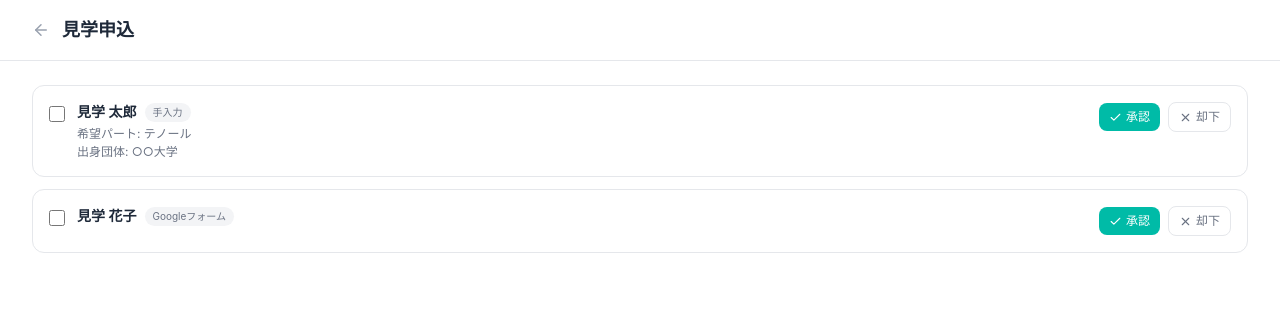
it: VisitorApplicationsPage › チェックボックスで複数選択し、一括承認できる
Expected: the text "見学 太郎" is shown, [77,102,136,122]
Click the checkbox next to "見学 太郎".
click(57, 114)  # box [49,106,65,122]
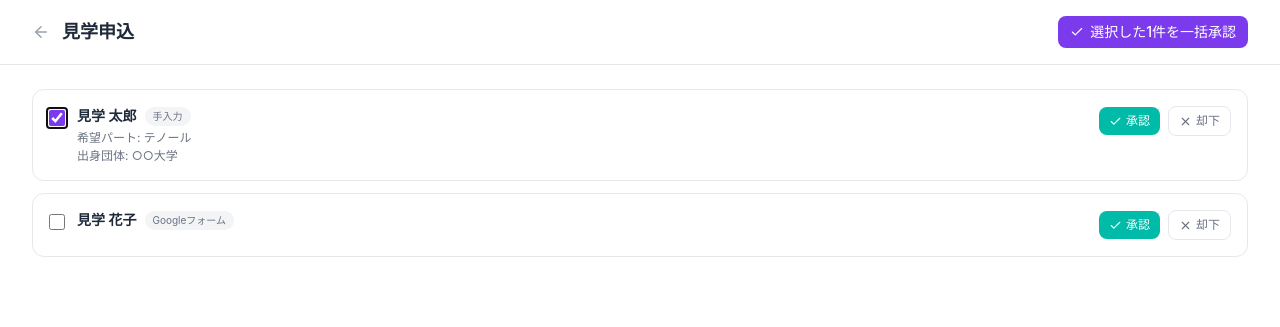
Click the checkbox next to "見学 花子".
click(57, 222)  # box [49,214,65,230]
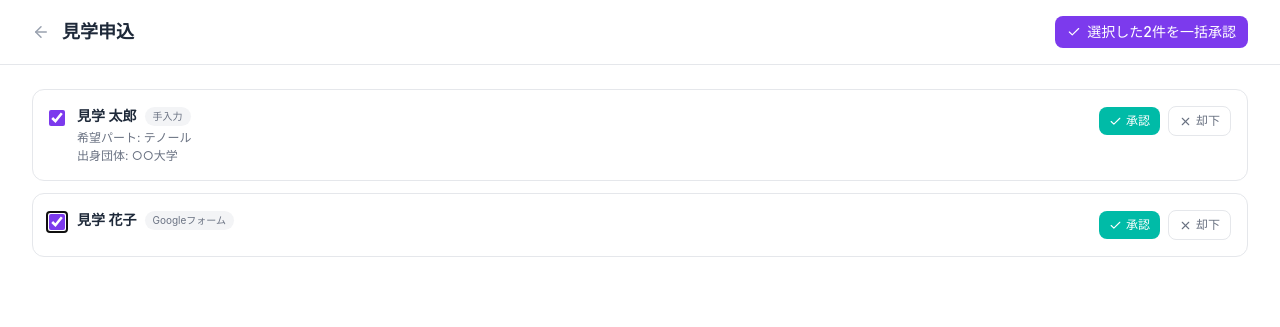
Click the button "選択した2件を一括承認".
click(1152, 32)  # box [1055,16,1248,48]
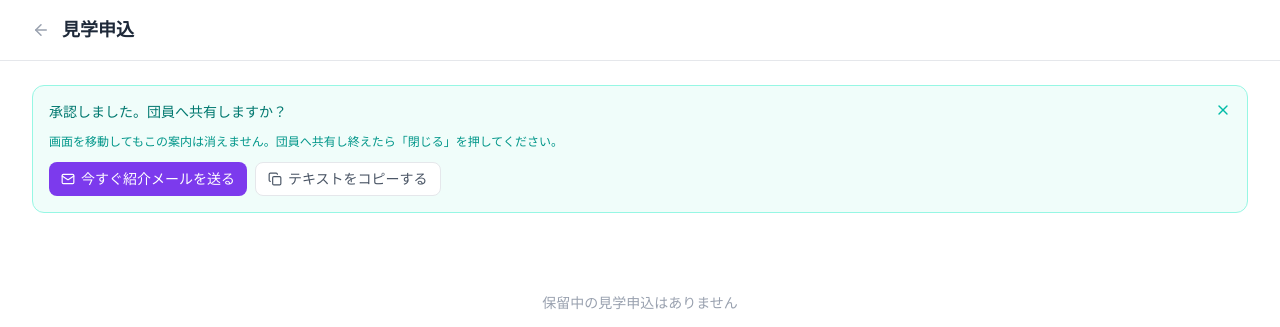
Expected: the text "見学 太郎" is gone
Expected: the text "見学 花子" is gone
